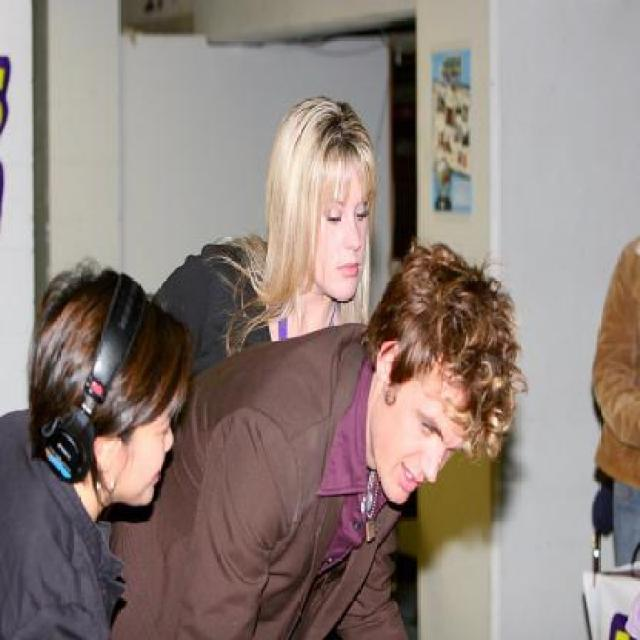earphone: (47, 268, 150, 500)
